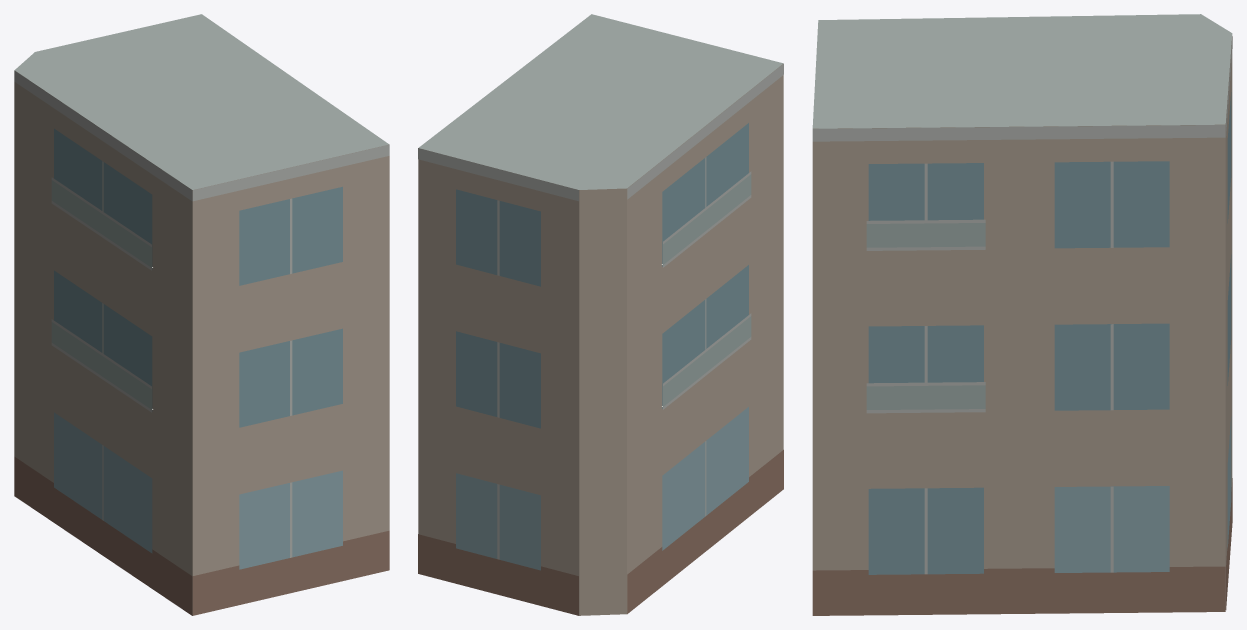
The model's file is survey-upis-32467512.glb.
The picture shows the model from 3 angles, left to right: view 1: azimuth 30°, elevation 25°; view 2: azimuth 150°, elevation 25°; view 3: azimuth 270°, elevation 25°; orthographic projection. The views are drawn at different scales.
Visible parts, largest first — view 1: survey-upis-32467512.tmp; view 2: survey-upis-32467512.tmp; view 3: survey-upis-32467512.tmp.
Part boxes in pixels (bbox=[...]): survey-upis-32467512.tmp: bbox=[14, 14, 389, 615]; survey-upis-32467512.tmp: bbox=[418, 14, 783, 615]; survey-upis-32467512.tmp: bbox=[812, 14, 1232, 615].
Bounding box in the file's own units: 4.64 × 9.15 × 7.16.
